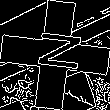N_W: (28, 32, 82, 78)
